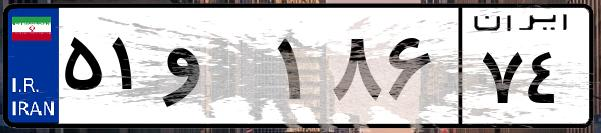1: (270, 28, 330, 110), (110, 28, 158, 98)
4: (525, 38, 570, 115)
5: (57, 26, 110, 100)
6: (385, 28, 445, 110)
7: (475, 38, 525, 113)
8: (330, 28, 385, 110)
و: (158, 20, 270, 120)
